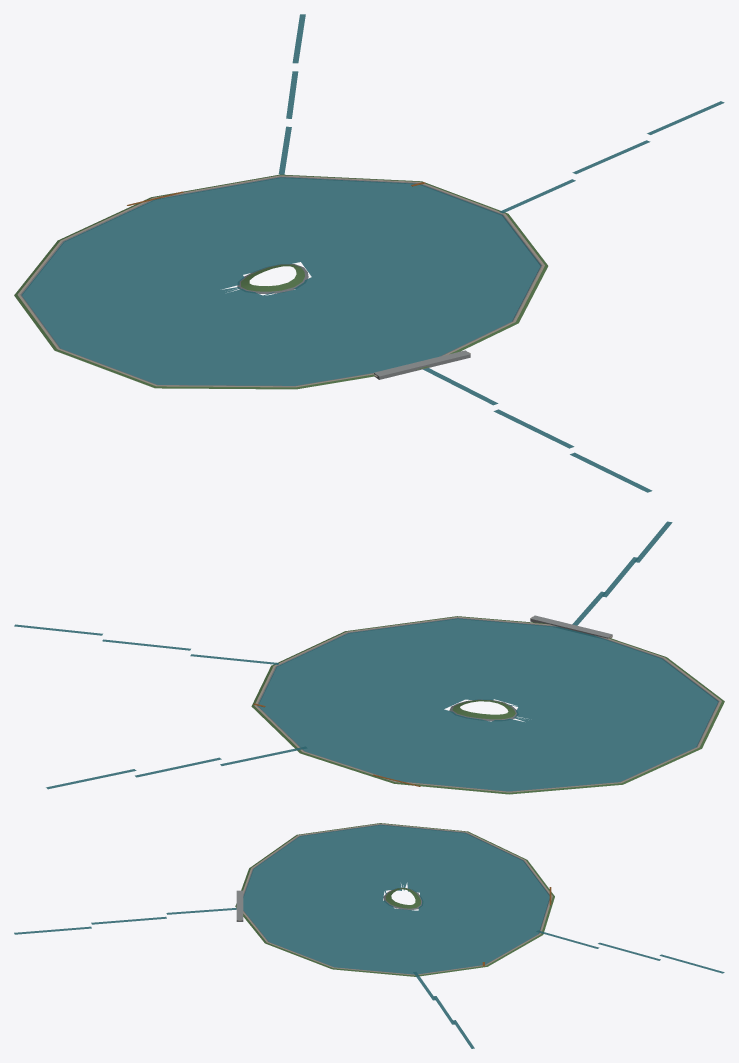
File: water_ho_dap_cau_dat_xuan_truong.glb
The picture shows the model from 3 angles, top to bottom: view 1: azimuth 30°, elevation 25°; view 2: azimuth 150°, elevation 25°; view 3: azimuth 270°, elevation 25°; orthographic projection. The views are drawn at different scales.
Visible parts, largest first — view 1: water_surface_water_ho_dap_cau_dat_xuan_truong, shoreline_terrain_transition_verge_water_ho_dap_cau_dat_xuan, lakeside_promenade_walkway_water_ho_dap_cau_dat_xuan_truong, embankment_stone_coping_water_ho_dap_cau_dat_xuan_truong, headwater_terraces_stream_cau_dat_south_spillway_to_tram_han, headwater_terraces_stream_cau_dat_north_tea_hill_inflow, headwater_terraces_stream_cau_dat_east_windfarm_inflow, cau_dat_main_irrigation_dam_weir; view 2: water_surface_water_ho_dap_cau_dat_xuan_truong, shoreline_terrain_transition_verge_water_ho_dap_cau_dat_xuan, lakeside_promenade_walkway_water_ho_dap_cau_dat_xuan_truong, embankment_stone_coping_water_ho_dap_cau_dat_xuan_truong, headwater_terraces_stream_cau_dat_north_tea_hill_inflow, headwater_terraces_stream_cau_dat_south_spillway_to_tram_han, headwater_terraces_stream_cau_dat_east_windfarm_inflow, embankment_stone_slope_water_ho_dap_cau_dat_xuan_truong, island_pine_mound_slope_island_cau_dat_01_tea_hill_knoll, cau_dat_main_irrigation_dam_weir; view 3: water_surface_water_ho_dap_cau_dat_xuan_truong, shoreline_terrain_transition_verge_water_ho_dap_cau_dat_xuan, lakeside_promenade_walkway_water_ho_dap_cau_dat_xuan_truong, embankment_stone_coping_water_ho_dap_cau_dat_xuan_truong, headwater_terraces_stream_cau_dat_south_spillway_to_tram_han, headwater_terraces_stream_cau_dat_north_tea_hill_inflow.
Part boxes in pixels (<box>): water_surface_water_ho_dap_cau_dat_xuan_truong: <box>21,177,540,385</box>; shoreline_terrain_transition_verge_water_ho_dap_cau_dat_xuan: <box>14,174,548,389</box>; lakeside_promenade_walkway_water_ho_dap_cau_dat_xuan_truong: <box>17,175,544,387</box>; embankment_stone_coping_water_ho_dap_cau_dat_xuan_truong: <box>20,176,542,386</box>; headwater_terraces_stream_cau_dat_south_spillway_to_tram_han: <box>423,368,652,492</box>; headwater_terraces_stream_cau_dat_north_tea_hill_inflow: <box>278,14,305,174</box>; headwater_terraces_stream_cau_dat_east_windfarm_inflow: <box>499,101,724,213</box>; cau_dat_main_irrigation_dam_weir: <box>374,350,470,379</box>; water_surface_water_ho_dap_cau_dat_xuan_truong: <box>258,618,718,791</box>; shoreline_terrain_transition_verge_water_ho_dap_cau_dat_xuan: <box>251,616,724,794</box>; lakeside_promenade_walkway_water_ho_dap_cau_dat_xuan_truong: <box>254,616,721,792</box>; embankment_stone_coping_water_ho_dap_cau_dat_xuan_truong: <box>256,617,719,791</box>; headwater_terraces_stream_cau_dat_north_tea_hill_inflow: <box>46,746,307,789</box>; headwater_terraces_stream_cau_dat_south_spillway_to_tram_han: <box>572,521,672,625</box>; headwater_terraces_stream_cau_dat_east_windfarm_inflow: <box>14,624,278,664</box>; embankment_stone_slope_water_ho_dap_cau_dat_xuan_truong: <box>258,618,718,746</box>; island_pine_mound_slope_island_cau_dat_01_tea_hill_knoll: <box>452,700,515,719</box>; cau_dat_main_irrigation_dam_weir: <box>530,615,612,638</box>; water_surface_water_ho_dap_cau_dat_xuan_truong: <box>243,824,549,974</box>; shoreline_terrain_transition_verge_water_ho_dap_cau_dat_xuan: <box>235,823,554,976</box>; lakeside_promenade_walkway_water_ho_dap_cau_dat_xuan_truong: <box>243,823,552,975</box>; embankment_stone_coping_water_ho_dap_cau_dat_xuan_truong: <box>243,824,549,974</box>; headwater_terraces_stream_cau_dat_south_spillway_to_tram_han: <box>14,908,236,934</box>; headwater_terraces_stream_cau_dat_north_tea_hill_inflow: <box>536,930,724,973</box>.
Size of the model in its own units: 1454 by 65 by 1844.
